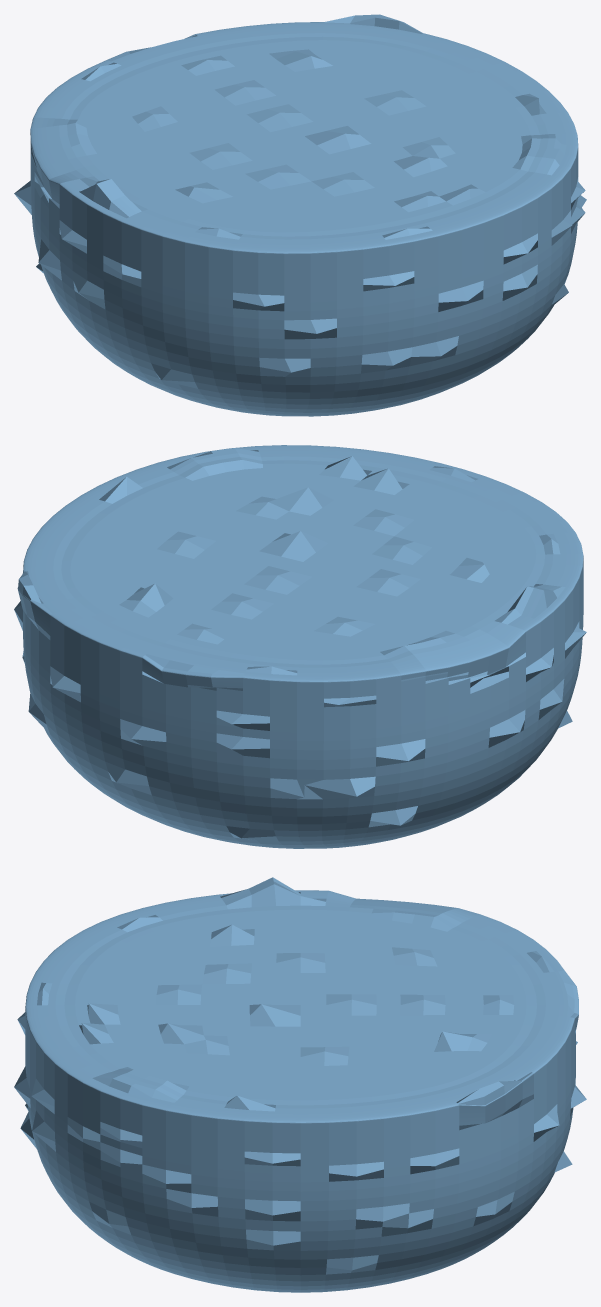
File: iceIsland1.fbx
3 renders of one model, top to bottom at view 1: azimuth 30°, elevation 25°; view 2: azimuth 150°, elevation 25°; view 3: azimuth 270°, elevation 25°, orthographic. The views are drawn at different scales.
Parts seen in each view (by area): view 1: Cube; view 2: Cube; view 3: Cube.
Boxes of the visible parts, x1,y1,x2,y2 form: Cube: (14, 14, 586, 416); Cube: (14, 445, 586, 848); Cube: (14, 877, 586, 1292).
Bounding box in the file's own units: 954 × 470 × 954.
